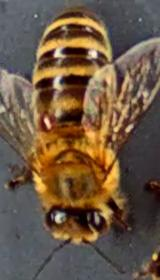varroa_mite: (31, 108, 61, 134)
